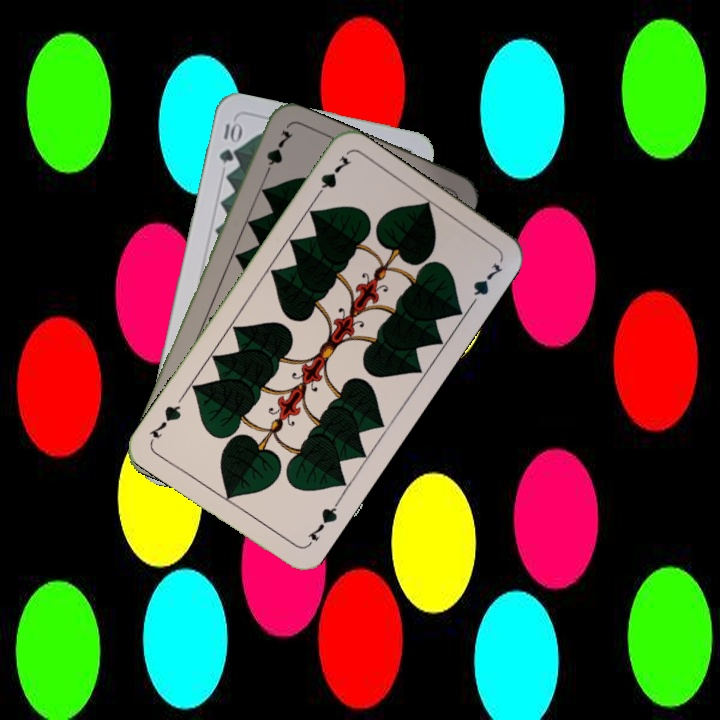G10: (215, 118, 242, 167)
G7: (309, 151, 354, 203), (302, 497, 342, 549), (259, 125, 295, 182)
